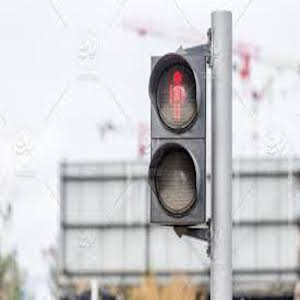red: (164, 69, 191, 129)
